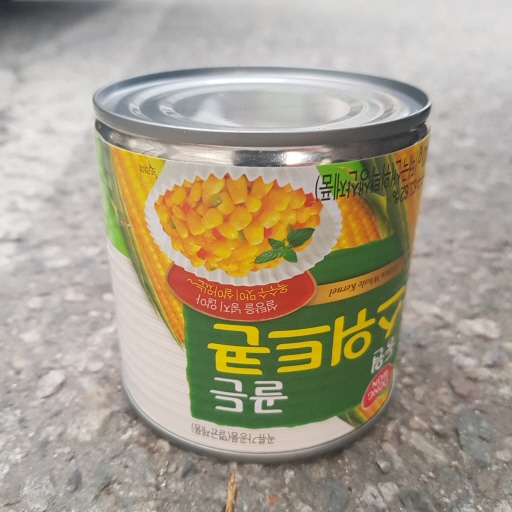Metal_1: (87, 64, 434, 461)
